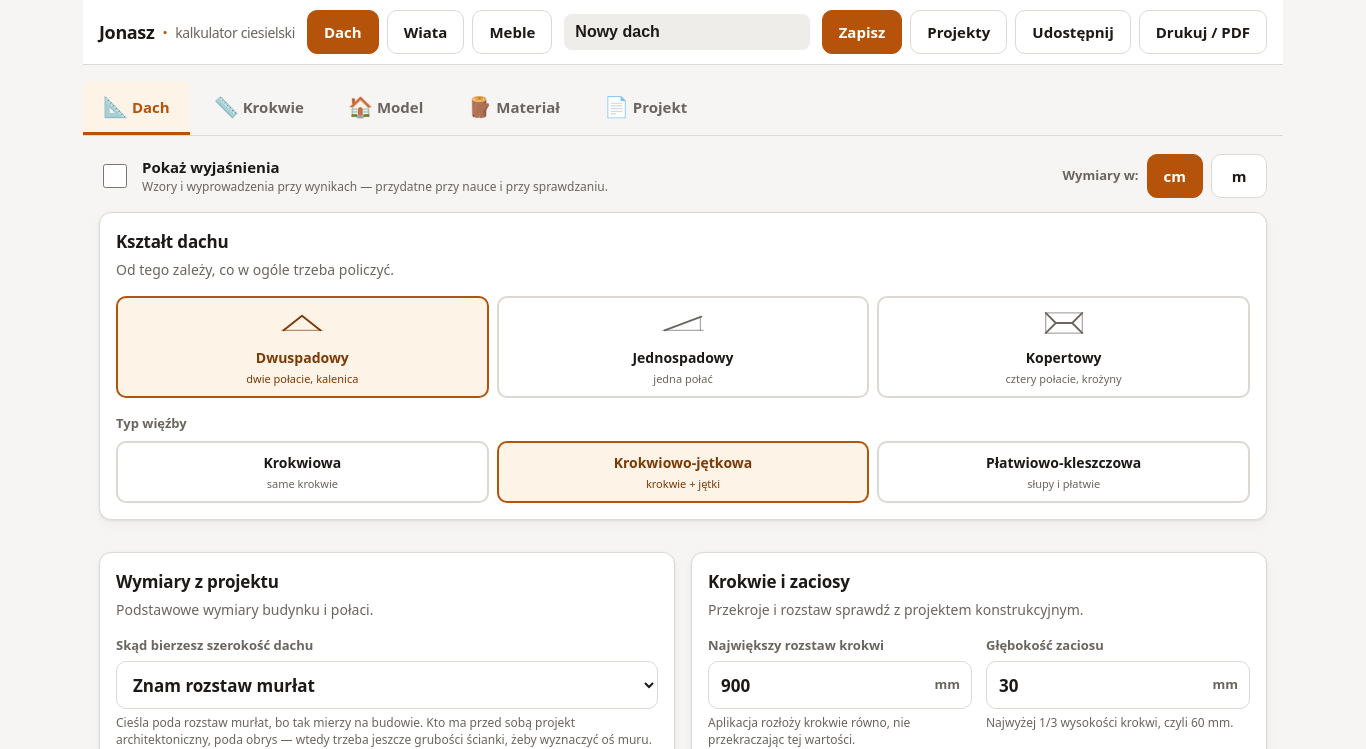
Scenario: wiaty, zadaszenia i pergole › liczy długość krokwi wiaty z wpisanych wymiarów
This screenshot has width=1366, height=749.
Step 1. Click the button "Wiata" → (426, 32), box left=387, top=10, right=464, bottom=54
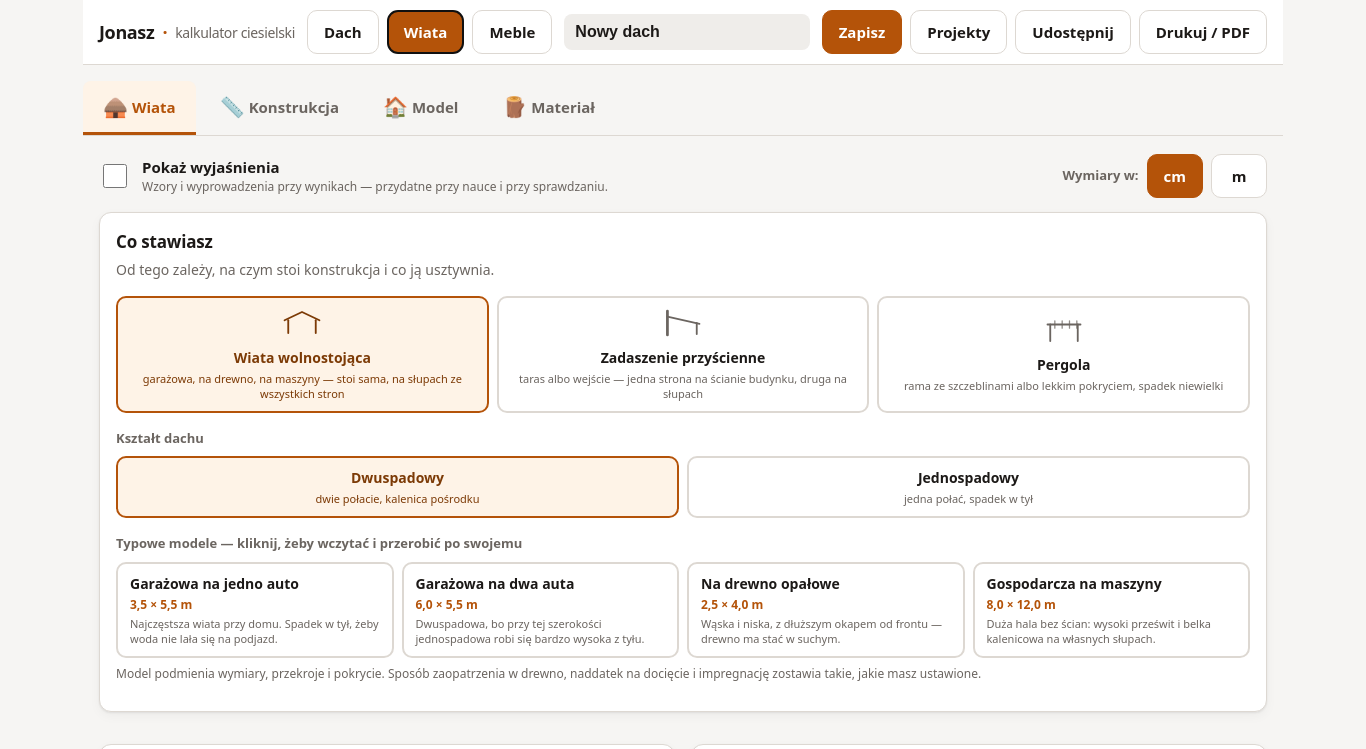
Step 2. Click the button "Jednospadowy jedna połać, spadek w tył" → (968, 487), box left=687, top=456, right=1250, bottom=518
(page scrolled)
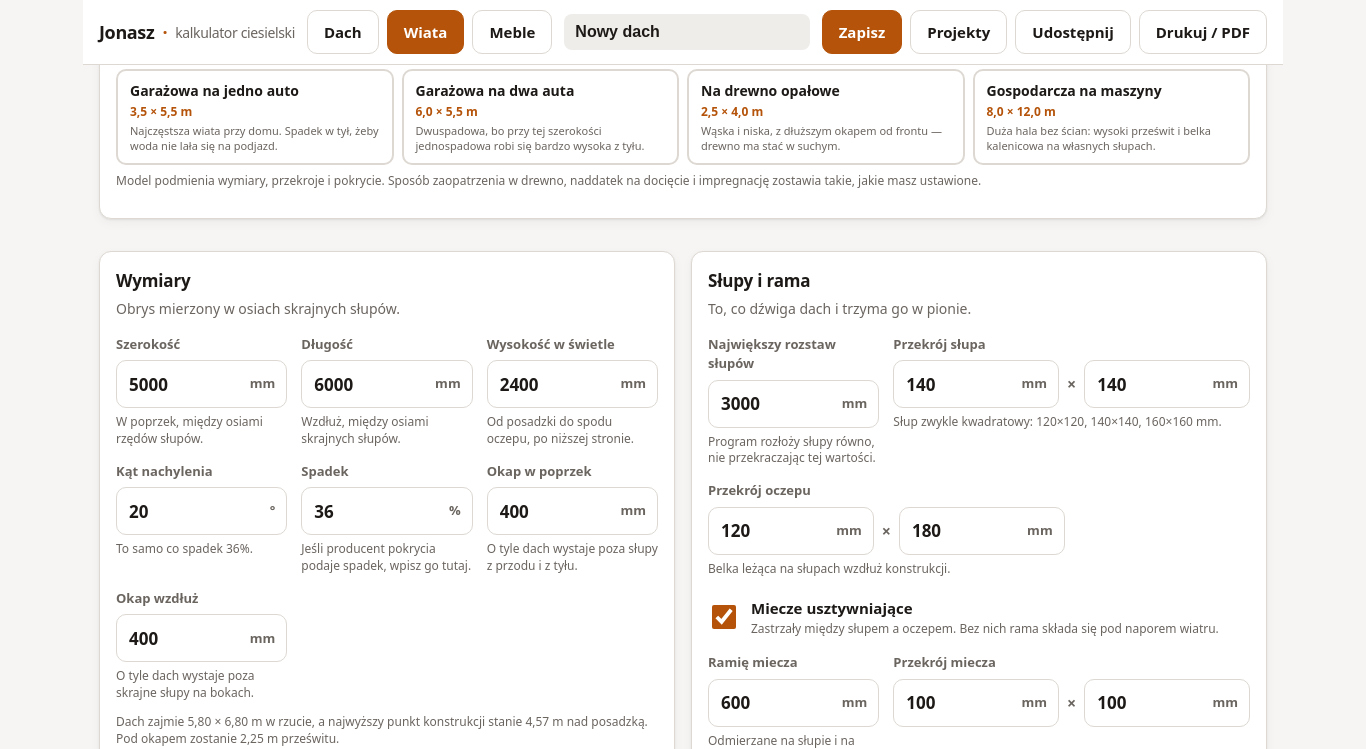
Step 3. Replace the text in the number field labelled "Szerokość" with "4000" → (202, 384), box left=116, top=360, right=287, bottom=408
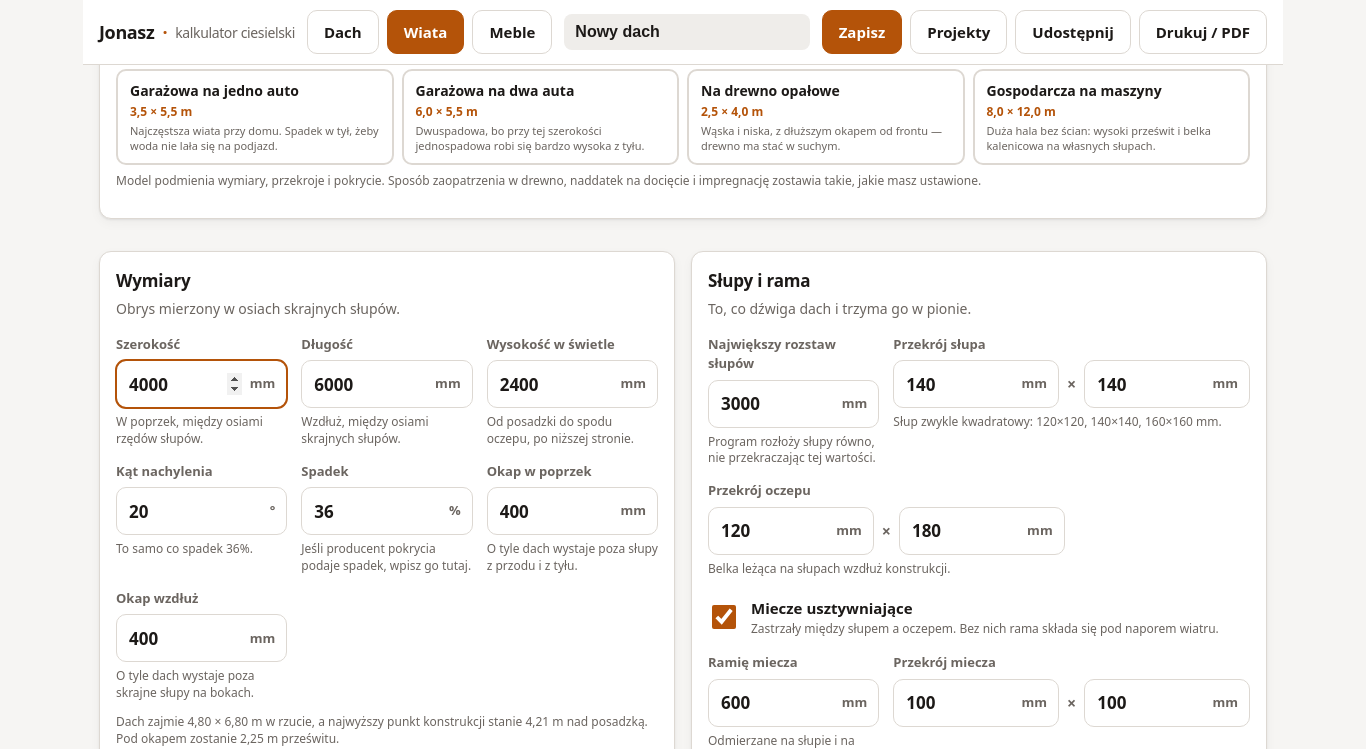
Step 4. Replace the text in the number field labelled "Okap w poprzek" with "0" → (572, 511), box left=487, top=487, right=658, bottom=535
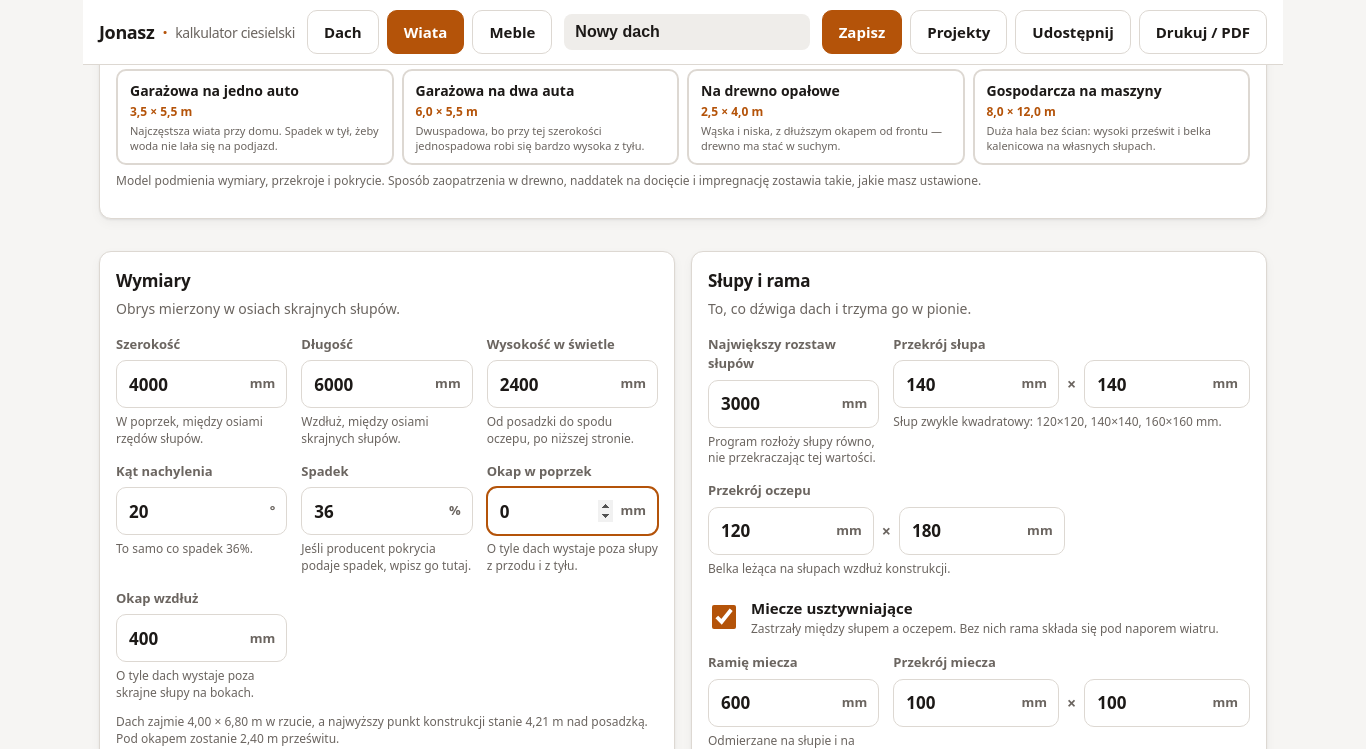
Step 5. Replace the text in the number field labelled "Kąt nachylenia" with "45" → (202, 511), box left=116, top=487, right=287, bottom=535
(page scrolled)
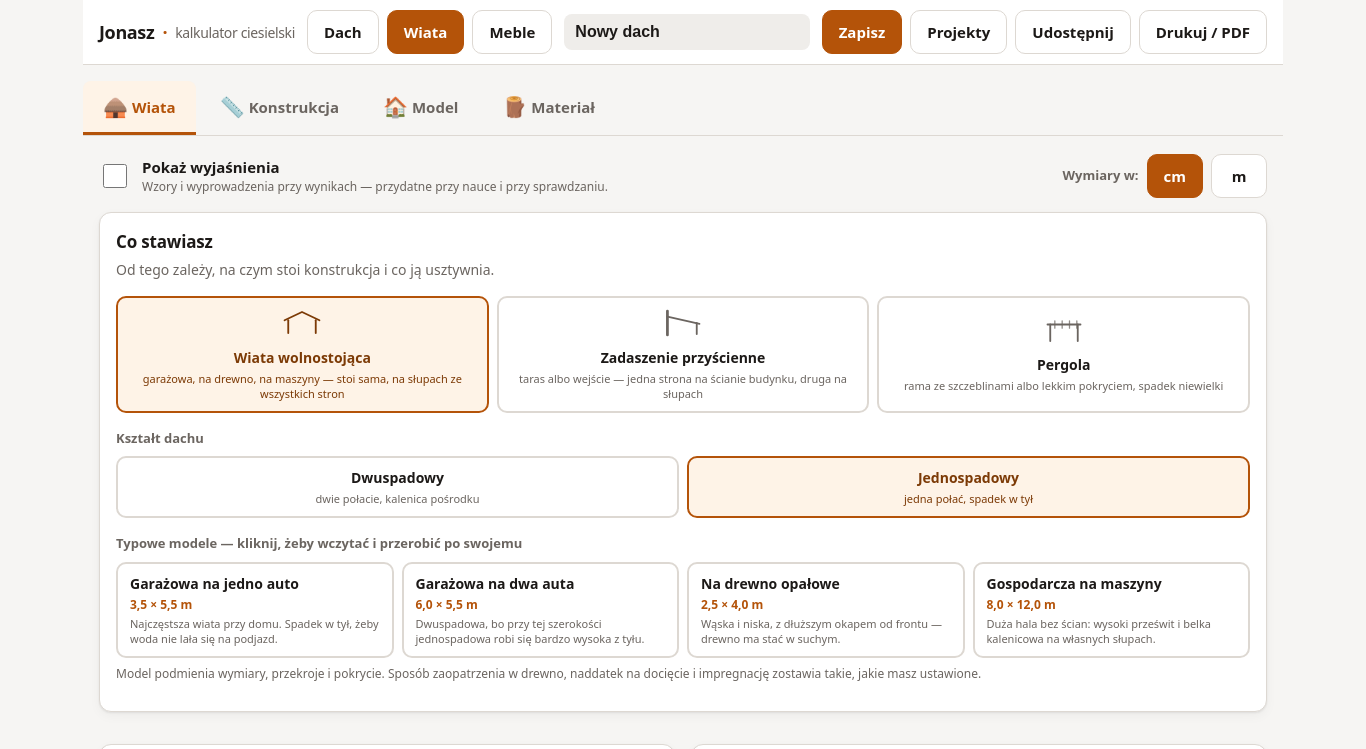
Step 6. Click the tab "📏 Konstrukcja" → (279, 108), box left=200, top=81, right=359, bottom=135
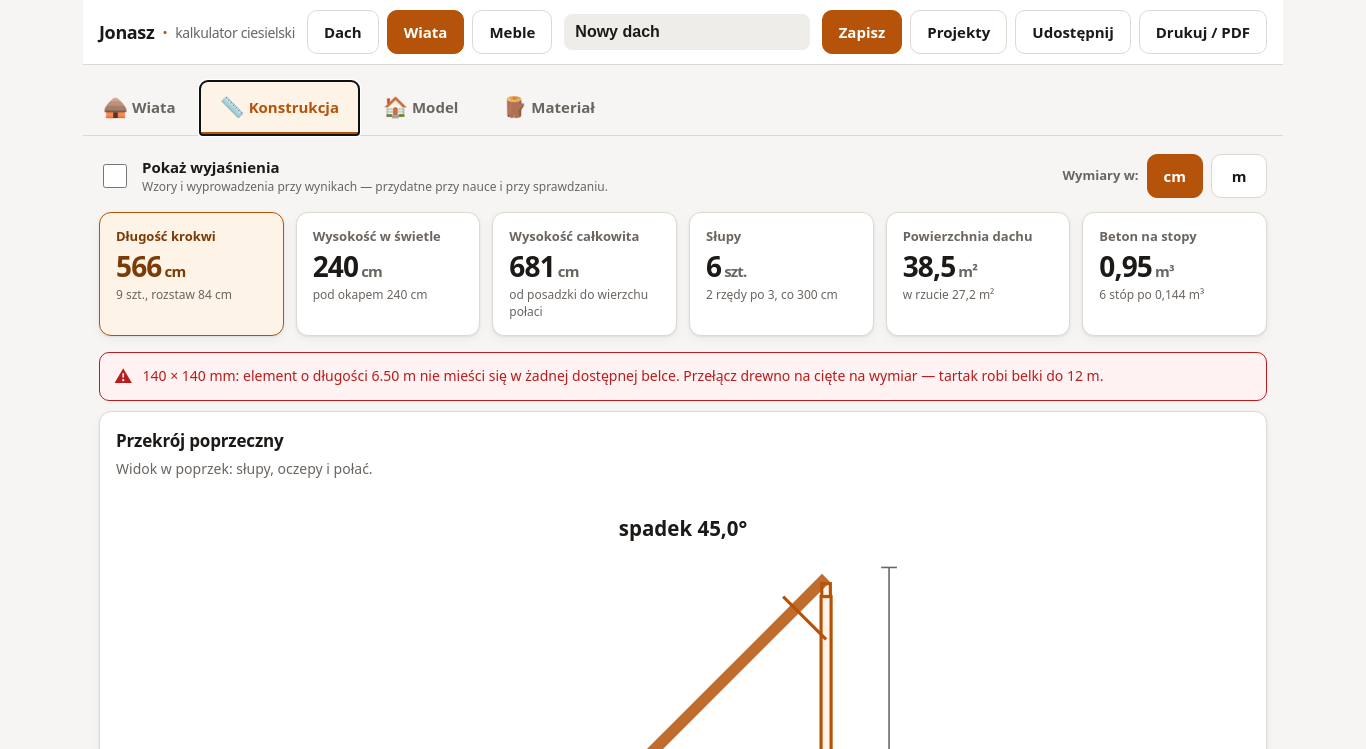
expect the text "566" is shown: met, box left=116, top=246, right=162, bottom=284
